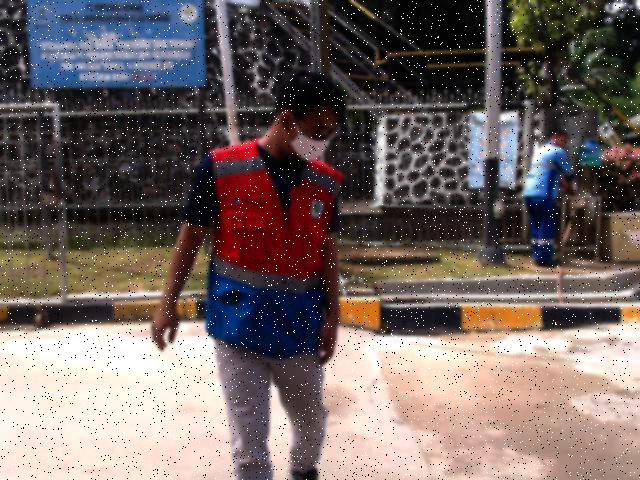mask: (289, 131, 331, 166)
